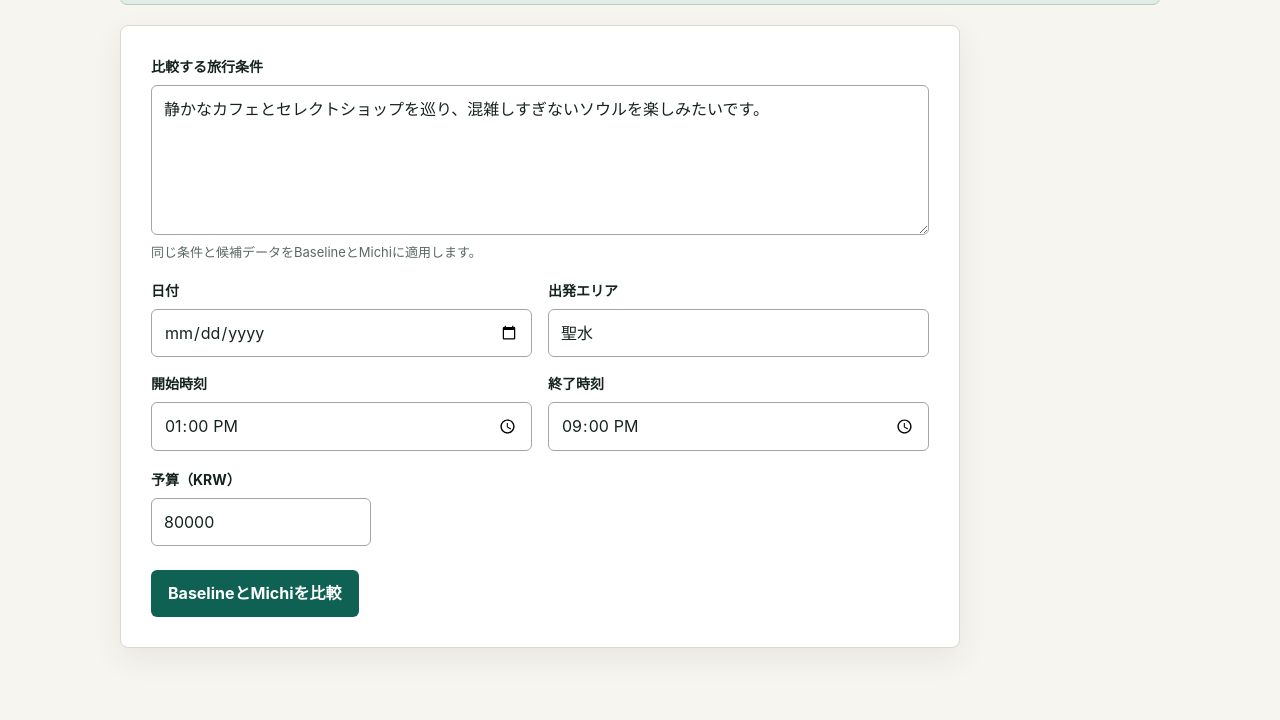
evaluation page › compares six metrics, routes, expected dispersion effect, and traceable sources without telemetry
(page scrolled)
Click the button "BaselineとMichiを比較" at x=255, y=594, box [151,570,358,617]
(page scrolled)
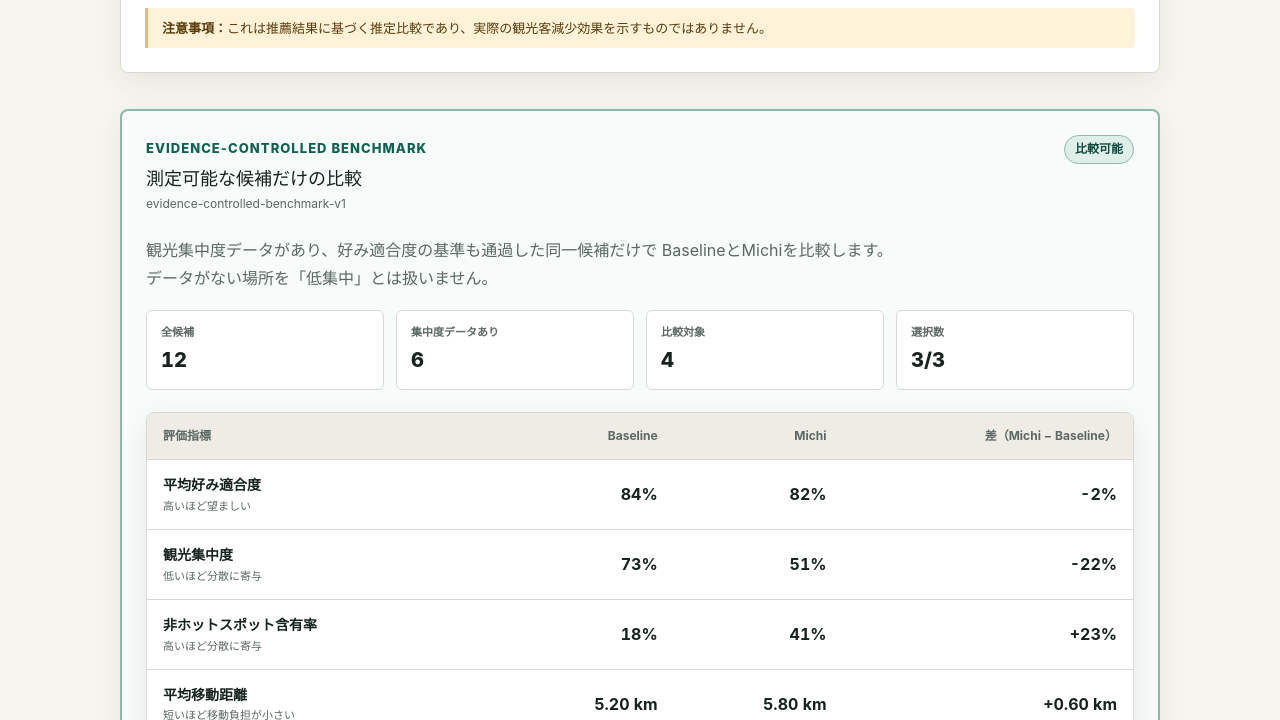
Now the text "平均好み適合度" is shown 2 times
Now the text "観光集中度" is shown 2 times
Now the text "非ホットスポット含有率" is shown 2 times
